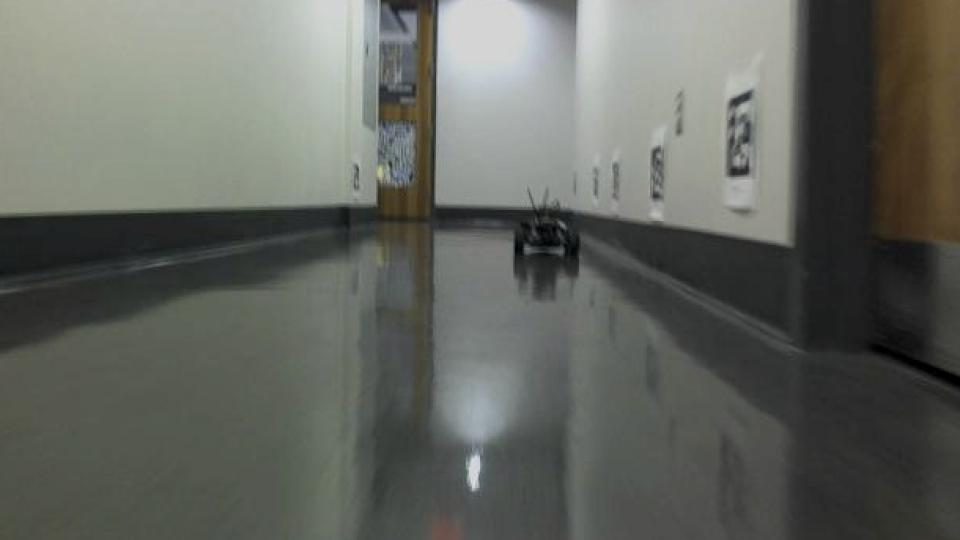car: (512, 183, 586, 264)
